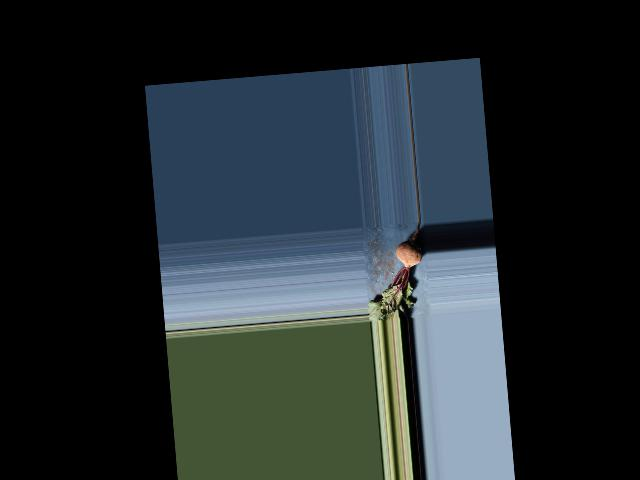beet: (361, 222, 428, 322)
